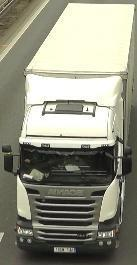truck: (3, 4, 135, 257)
